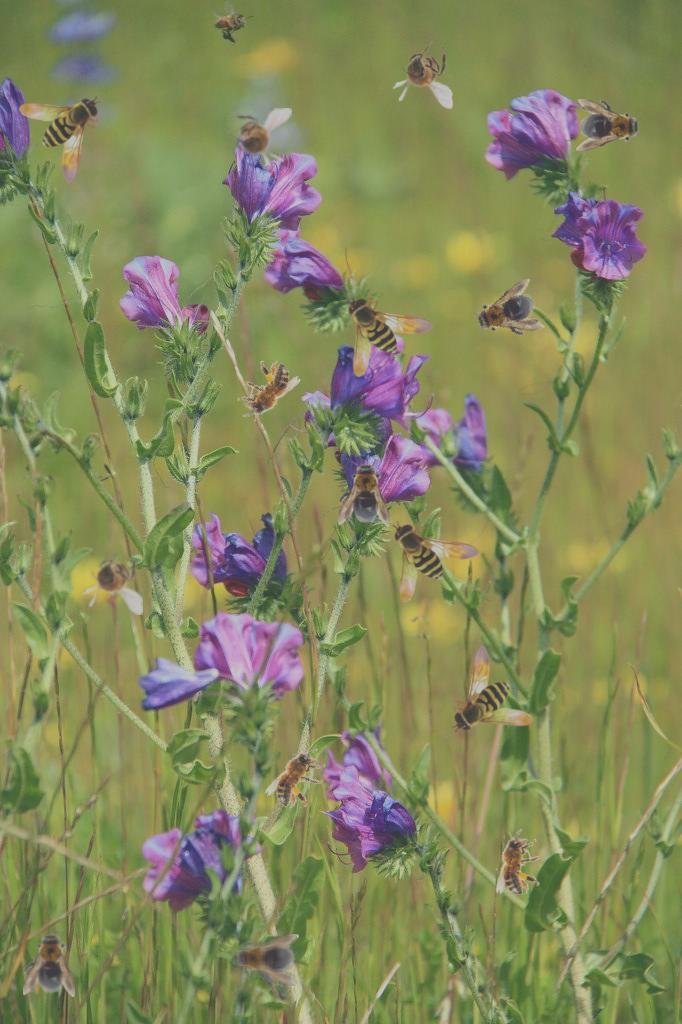Bee: (392, 521, 480, 603), (451, 645, 533, 733), (19, 96, 101, 184), (346, 295, 434, 377), (227, 351, 303, 432), (465, 277, 547, 351), (263, 736, 335, 817), (82, 545, 143, 615), (392, 39, 453, 109), (222, 108, 292, 169), (576, 99, 644, 151), (338, 459, 390, 527), (23, 929, 75, 997), (231, 934, 299, 986), (496, 829, 541, 895)
